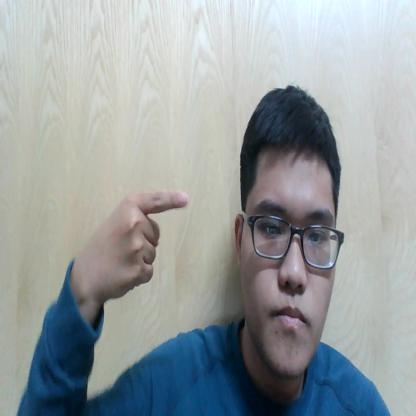left: (78, 184, 189, 308)
